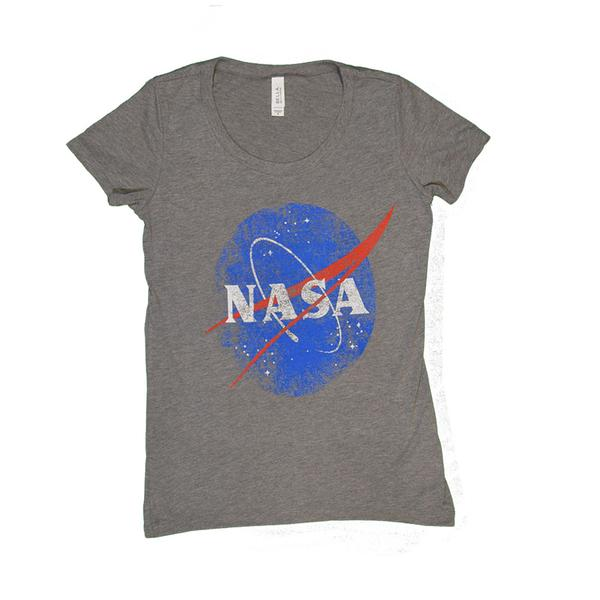NASA: (204, 200, 406, 400)
